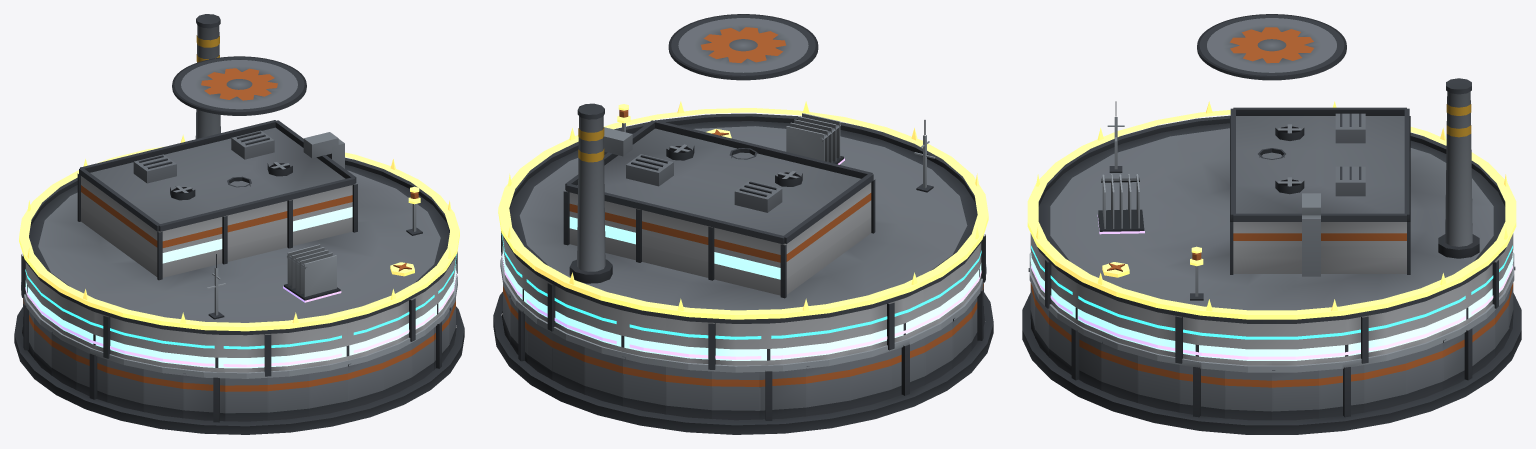
The model's file is electronics_fab_s_far.glb.
3 renders of one model, left to right at view 1: azimuth 30°, elevation 25°; view 2: azimuth 150°, elevation 25°; view 3: azimuth 270°, elevation 25°, orthographic. The views are drawn at different scales.
Visible parts, largest first — view 1: Roof, Base, L5, L4, L2, L3; view 2: Roof, Base, L5, L2, L4, L3; view 3: Roof, Base, L5, L2, L4, L3.
Boxes of the visible parts, <box> form: Roof: <box>21,14,457,376</box>; Base: <box>14,298,464,434</box>; L5: <box>19,134,459,331</box>; L4: <box>25,244,456,367</box>; L2: <box>21,254,457,378</box>; L3: <box>25,254,456,349</box>; Roof: <box>501,14,985,369</box>; Base: <box>493,282,993,434</box>; L5: <box>498,101,988,319</box>; L2: <box>500,120,986,372</box>; L4: <box>501,113,981,359</box>; L3: <box>501,234,981,339</box>; Roof: <box>1030,14,1513,365</box>; Base: <box>1022,266,1521,434</box>; L5: <box>1027,101,1516,319</box>; L2: <box>1029,101,1514,372</box>; L4: <box>1031,174,1512,359</box>; L3: <box>1031,245,1512,339</box>.
Size of the model in its own units: 11.74 by 7.38 by 11.74.
